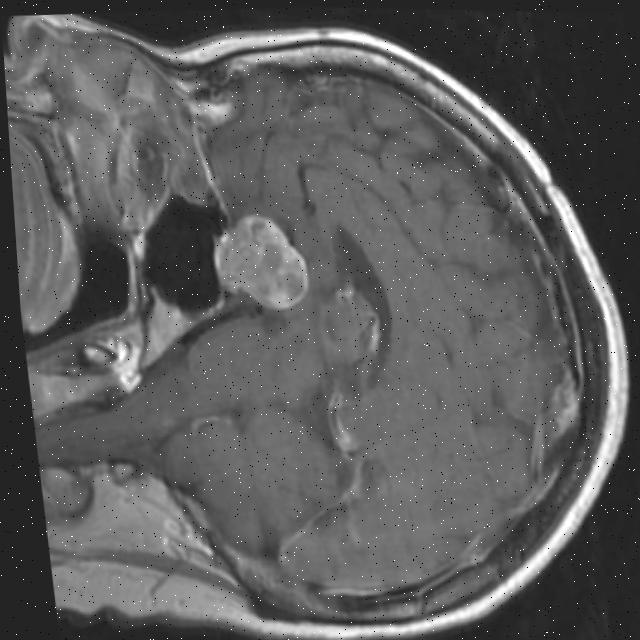Pituitary: (206, 212, 313, 314)
